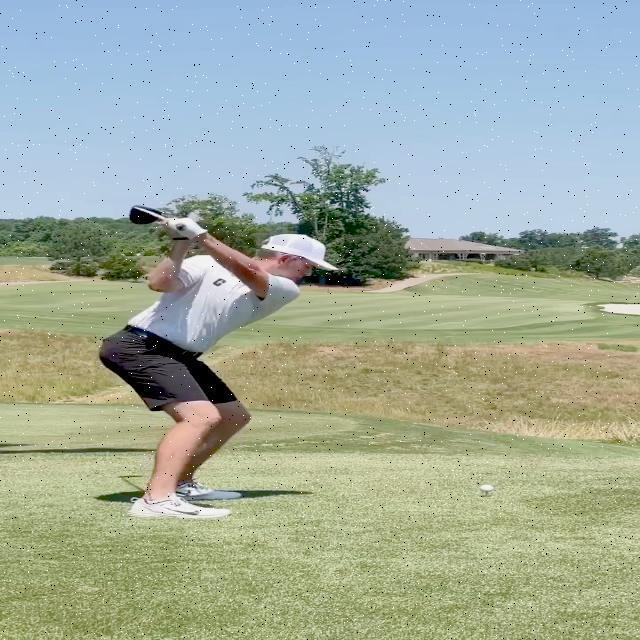ClubHead: (130, 205, 162, 224)
GolfBall: (480, 485, 494, 492)
